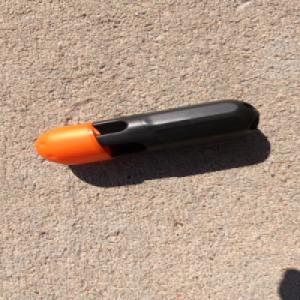PlasticPart: (33, 98, 261, 165)
